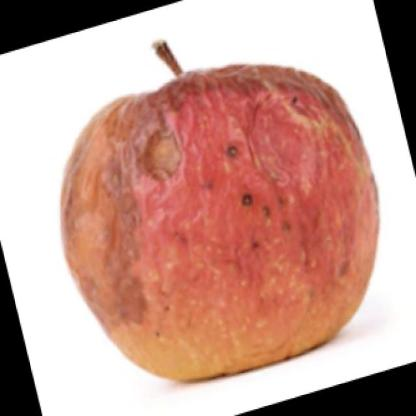defect: (144, 70, 388, 328), (59, 100, 147, 333)
